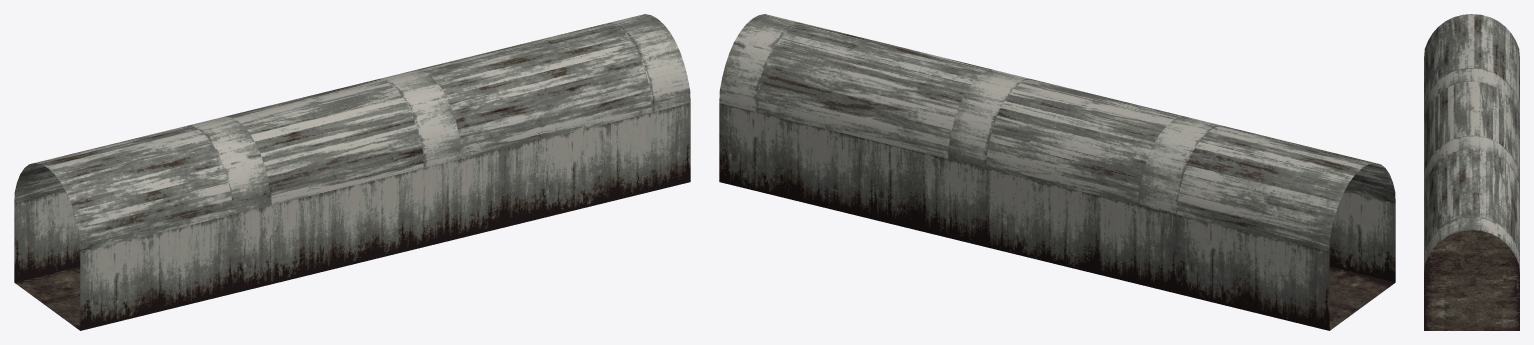
Rendered from SM_EC_ContreteTunnel_0.fbx.
3 views of the same model, side by side, from view 1: azimuth 30°, elevation 25°; view 2: azimuth 150°, elevation 25°; view 3: azimuth 270°, elevation 25° (orthographic). The views are drawn at different scales.
Parts seen in each view (by area): view 1: SM_EC_ContreteTunnel_0; view 2: SM_EC_ContreteTunnel_0; view 3: SM_EC_ContreteTunnel_0.
Part boxes in pixels (box(x1,y1,x2,y2)): SM_EC_ContreteTunnel_0: box(14, 14, 690, 330); SM_EC_ContreteTunnel_0: box(719, 14, 1395, 330); SM_EC_ContreteTunnel_0: box(1424, 14, 1519, 330).
Bounding box in the file's own units: 16 × 3 × 3.48.
